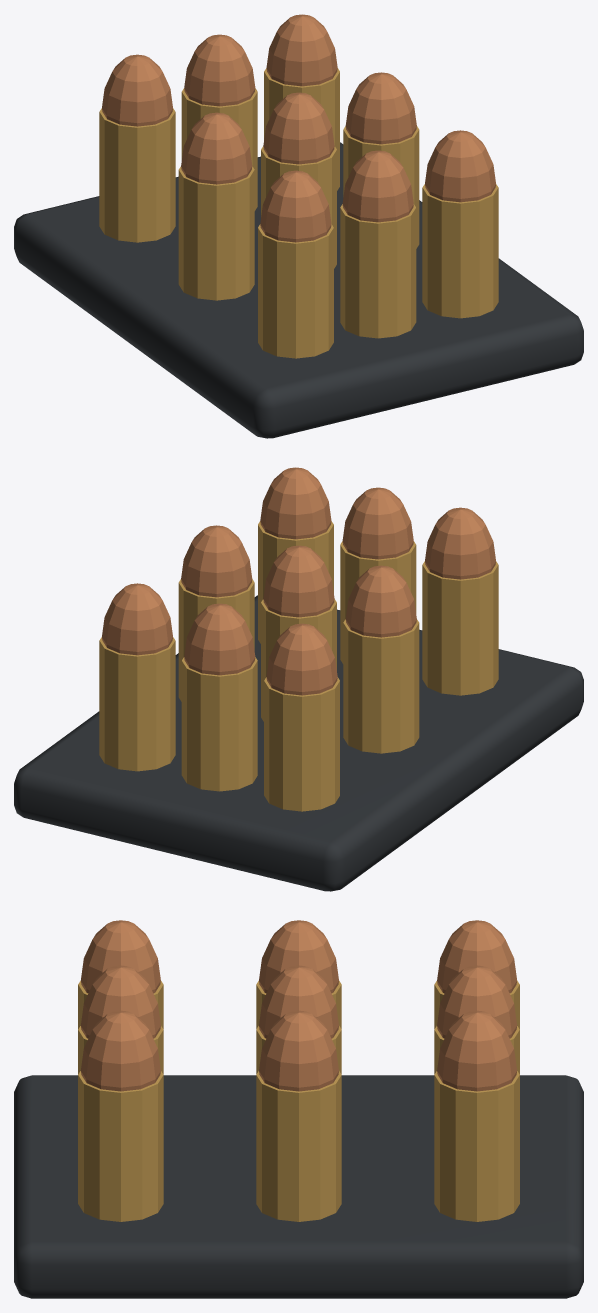
The model's file is pistol_ammo.glb.
3 renders of one model, top to bottom at view 1: azimuth 30°, elevation 25°; view 2: azimuth 150°, elevation 25°; view 3: azimuth 270°, elevation 25°, orthographic. The views are drawn at different scales.
Visible parts, largest first — view 1: Ammo_tray, Cartridge_case.006, Cartridge_case.001, Cartridge_case.002, Cartridge_case.003, Cartridge_case, Bullet.001, Bullet.003, Bullet.008, Bullet.004, Bullet.007, Bullet (+7 smaller); view 2: Ammo_tray, Cartridge_case.008, Cartridge_case.001, Cartridge_case, Cartridge_case.005, Cartridge_case.002, Bullet.001, Bullet.005, Bullet.006, Bullet.004, Bullet.007, Bullet.002 (+7 smaller); view 3: Ammo_tray, Cartridge_case.006, Cartridge_case.007, Cartridge_case.008, Bullet.006, Bullet.008, Bullet.007, Bullet, Bullet.002, Bullet.001, Bullet.003, Bullet.005 (+7 smaller).
Part boxes in pixels (x1=…): Ammo_tray: x1=14, y1=142, x2=583, y2=438; Cartridge_case.006: x1=422, y1=184, x2=498, y2=318; Cartridge_case.001: x1=178, y1=166, x2=254, y2=300; Cartridge_case.002: x1=99, y1=108, x2=175, y2=242; Cartridge_case.003: x1=340, y1=204, x2=416, y2=338; Cartridge_case: x1=258, y1=224, x2=333, y2=358; Bullet.001: x1=181, y1=112, x2=252, y2=184; Bullet.003: x1=342, y1=150, x2=413, y2=222; Bullet.008: x1=266, y1=14, x2=337, y2=86; Bullet.004: x1=263, y1=92, x2=334, y2=164; Bullet.007: x1=345, y1=72, x2=416, y2=144; Bullet: x1=260, y1=170, x2=331, y2=242; Ammo_tray: x1=14, y1=595, x2=583, y2=891; Cartridge_case.008: x1=99, y1=637, x2=175, y2=771; Cartridge_case.001: x1=343, y1=619, x2=419, y2=753; Cartridge_case: x1=422, y1=561, x2=498, y2=695; Cartridge_case.005: x1=181, y1=657, x2=257, y2=791; Cartridge_case.002: x1=264, y1=677, x2=339, y2=811; Bullet.001: x1=345, y1=565, x2=416, y2=637; Bullet.005: x1=184, y1=603, x2=255, y2=675; Bullet.006: x1=260, y1=467, x2=331, y2=539; Bullet.004: x1=263, y1=545, x2=334, y2=617; Bullet.007: x1=181, y1=525, x2=252, y2=597; Bullet.002: x1=266, y1=623, x2=337, y2=695; Ammo_tray: x1=14, y1=1075, x2=583, y2=1298; Cartridge_case.006: x1=78, y1=1071, x2=163, y2=1221; Cartridge_case.007: x1=256, y1=1071, x2=341, y2=1221; Cartridge_case.008: x1=434, y1=1071, x2=519, y2=1221; Bullet.006: x1=81, y1=1010, x2=160, y2=1091; Bullet.008: x1=437, y1=1010, x2=516, y2=1091; Bullet.007: x1=259, y1=1010, x2=338, y2=1091; Bullet: x1=81, y1=920, x2=160, y2=993; Bullet.002: x1=437, y1=920, x2=516, y2=993; Bullet.001: x1=259, y1=920, x2=338, y2=993; Bullet.003: x1=80, y1=965, x2=160, y2=1038; Bullet.005: x1=437, y1=965, x2=517, y2=1038.
Size of the model in its own units: 0.048 by 0.0307 by 0.064.
